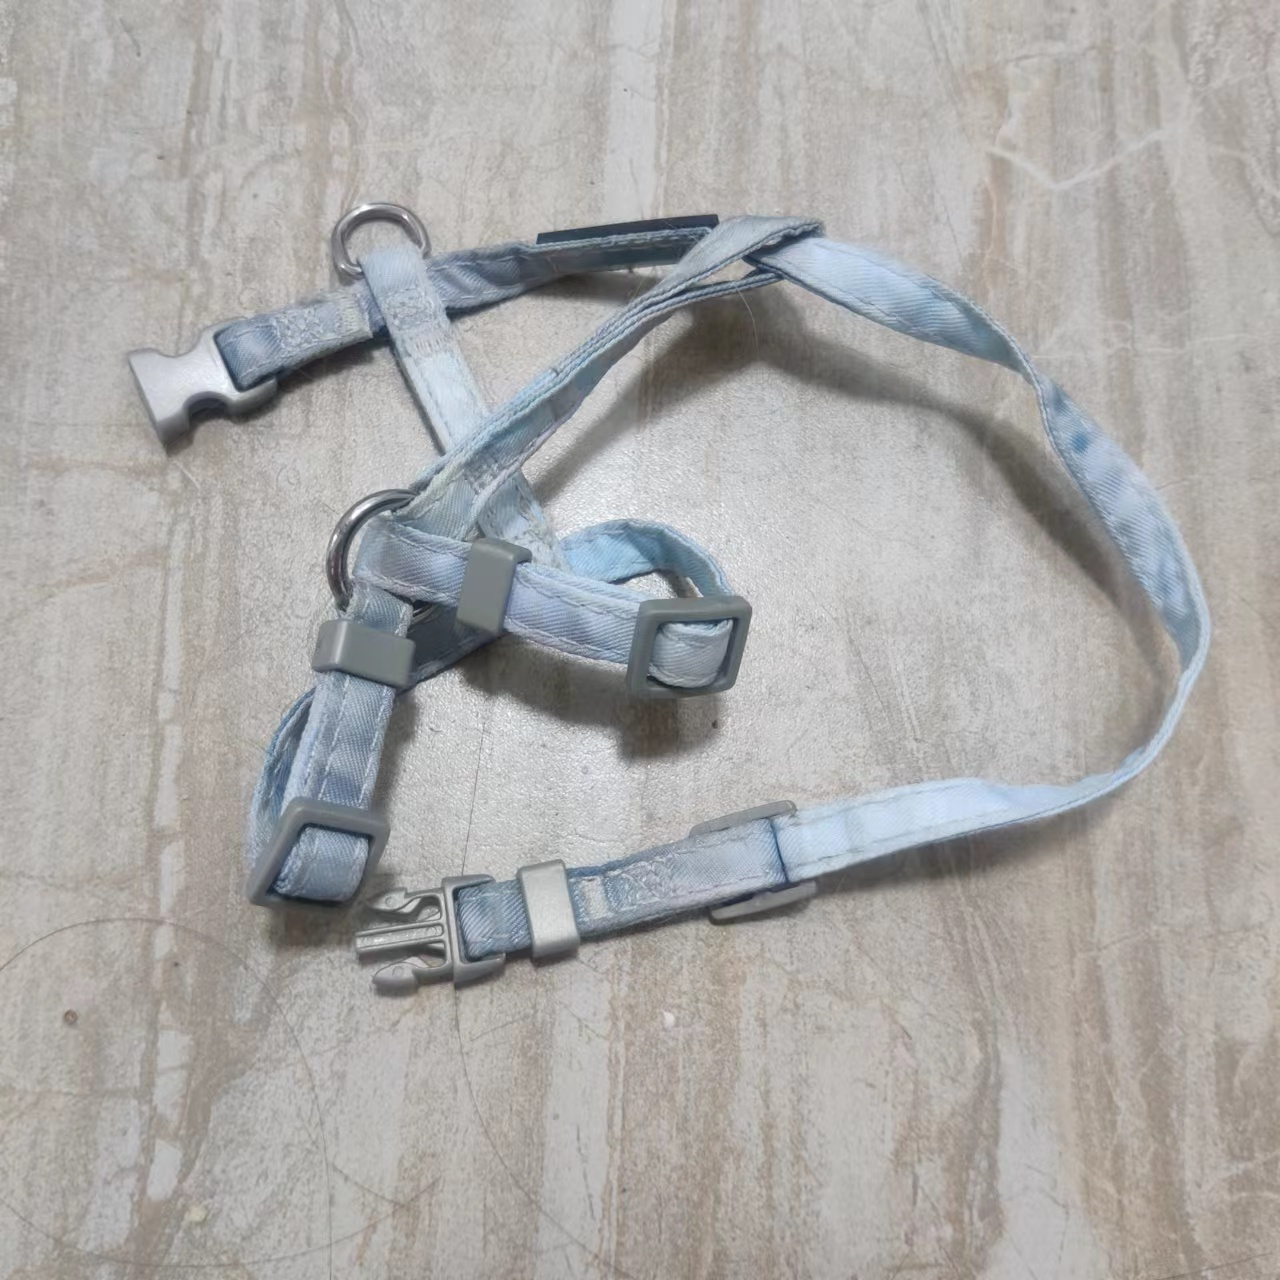9/可回收垃圾/绳子: (128, 202, 1208, 998)
